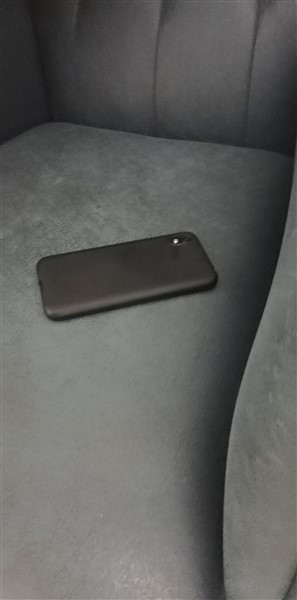telefon: (34, 227, 221, 328)
